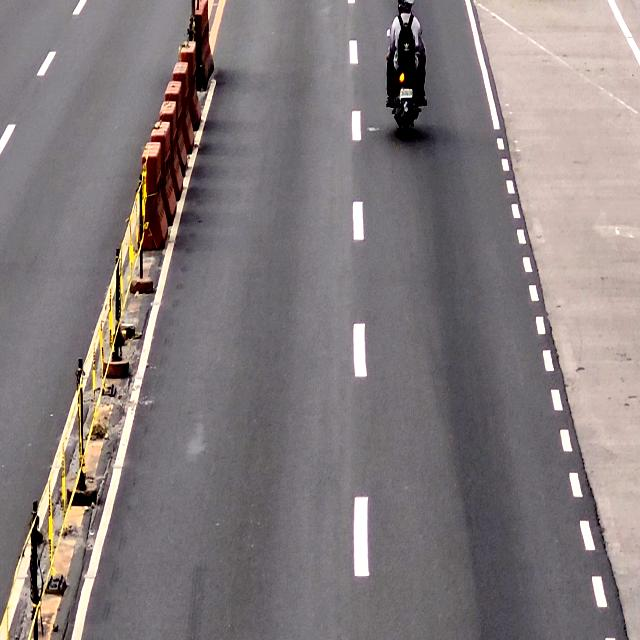License-Plate: (400, 87, 414, 99)
Motorcycle: (389, 16, 423, 140)
